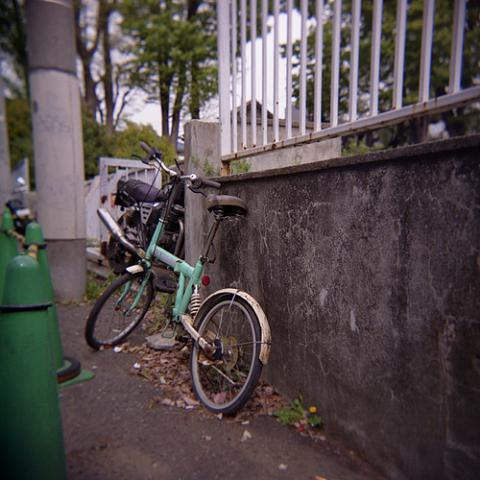motorcycle: (95, 180, 186, 270)
